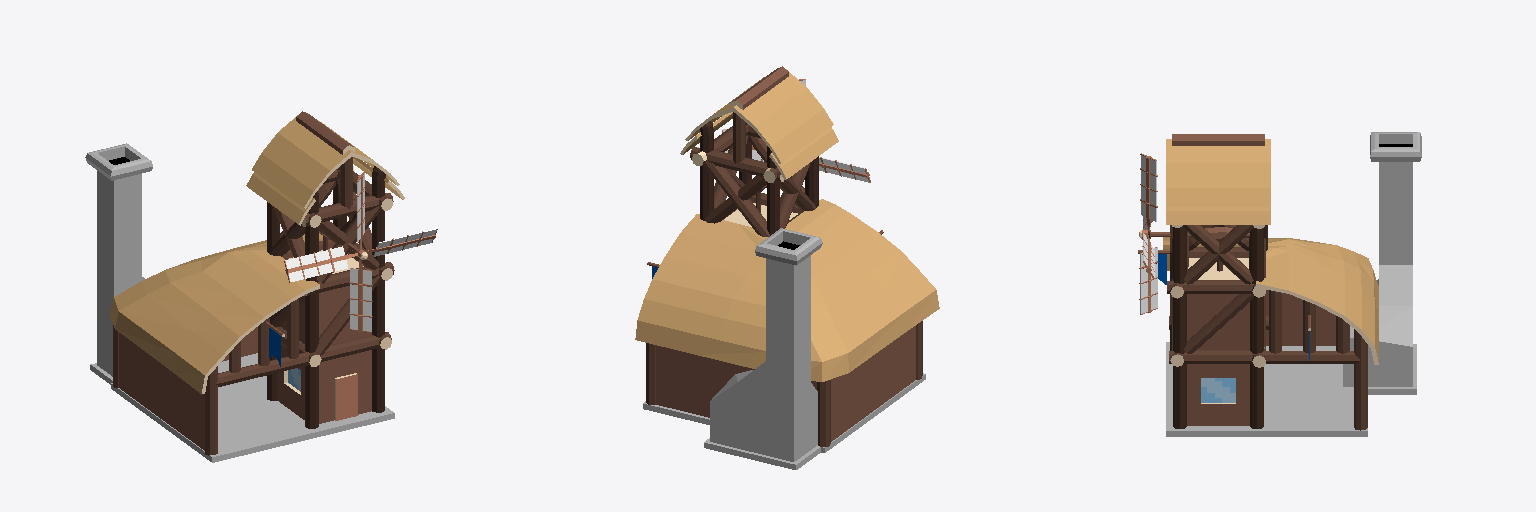
The picture shows the model from 3 angles: view 1: azimuth 30°, elevation 25°; view 2: azimuth 150°, elevation 25°; view 3: azimuth 270°, elevation 25°; orthographic projection.
Visible parts, largest first — view 1: Roof_Plane.003, Platform_complex_Cylinder.005, forge_Plane.004, ground_Plane.001, Roof.001_Plane, base_body_Cube, Platform_basic_Cylinder.001, base_walls_Plane.002, Windmill_0_Circle; view 2: Roof_Plane.003, forge_Plane.004, base_walls_Plane.002, Platform_complex_Cylinder.005, Roof.001_Plane, Platform_basic_Cylinder.001, ground_Plane.001, Windmill_0_Circle; view 3: Platform_complex_Cylinder.005, forge_Plane.004, Roof.001_Plane, ground_Plane.001, Roof_Plane.003, base_body_Cube, Platform_basic_Cylinder.001, Windmill_0_Circle, base_walls_Plane.002.
Part boxes in pixels (left/top/right/bottom): Roof_Plane.003: left=109, top=233, right=322, bottom=394; Platform_complex_Cylinder.005: left=113, top=157, right=394, bottom=455; forge_Plane.004: left=85, top=143, right=152, bottom=376; ground_Plane.001: left=90, top=353, right=394, bottom=462; Roof.001_Plane: left=246, top=111, right=404, bottom=225; base_body_Cube: left=277, top=248, right=371, bottom=423; Platform_basic_Cylinder.001: left=267, top=166, right=385, bottom=428; base_walls_Plane.002: left=119, top=327, right=257, bottom=450; Windmill_0_Circle: left=284, top=172, right=437, bottom=332; Roof_Plane.003: left=635, top=199, right=939, bottom=381; forge_Plane.004: left=710, top=228, right=822, bottom=461; base_walls_Plane.002: left=656, top=326, right=915, bottom=441; Platform_complex_Cylinder.005: left=646, top=112, right=922, bottom=446; Roof.001_Plane: left=680, top=66, right=838, bottom=179; Platform_basic_Cylinder.001: left=700, top=121, right=818, bottom=235; ground_Plane.001: left=643, top=373, right=925, bottom=469; Windmill_0_Circle: left=722, top=79, right=870, bottom=193; Platform_complex_Cylinder.005: left=1167, top=225, right=1367, bottom=430; forge_Plane.004: left=1343, top=132, right=1421, bottom=386; Roof.001_Plane: left=1166, top=134, right=1270, bottom=224; ground_Plane.001: left=1166, top=342, right=1416, bottom=436; Roof_Plane.003: left=1163, top=237, right=1378, bottom=364; base_body_Cube: left=1187, top=258, right=1249, bottom=425; Platform_basic_Cylinder.001: left=1173, top=226, right=1263, bottom=428; Windmill_0_Circle: left=1139, top=153, right=1249, bottom=314; base_walls_Plane.002: left=1266, top=290, right=1335, bottom=345.
Bounding box in the file's own units: 6.79 × 8.07 × 7.37.
Materials: 1 (1 with a texture image).